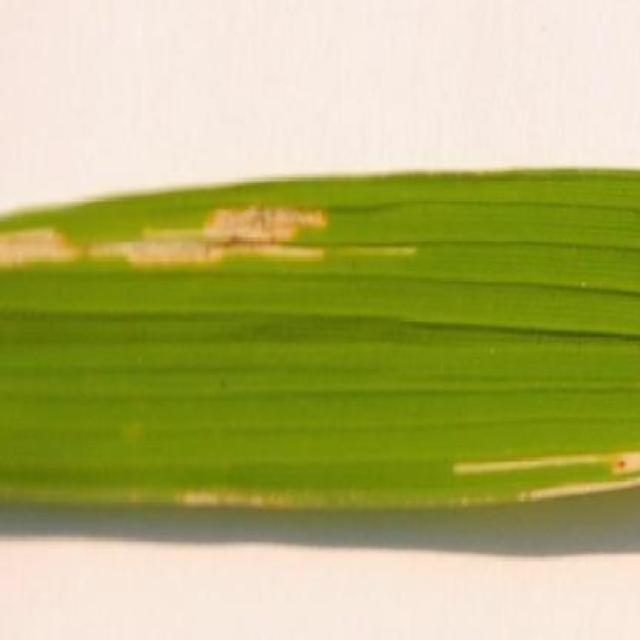Brown_Spot: (0, 162, 640, 576), (0, 169, 452, 304), (440, 407, 640, 595)
